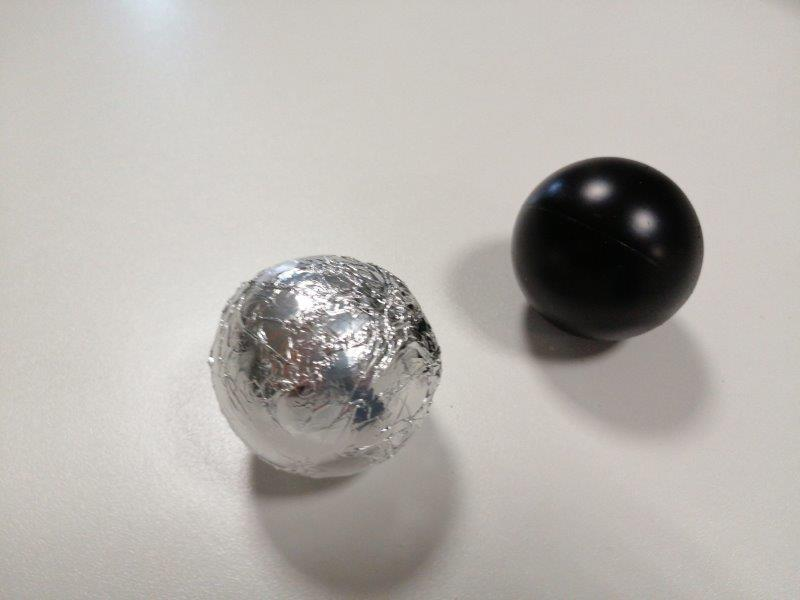bianca: (205, 254, 442, 482)
nera: (509, 156, 705, 343)
